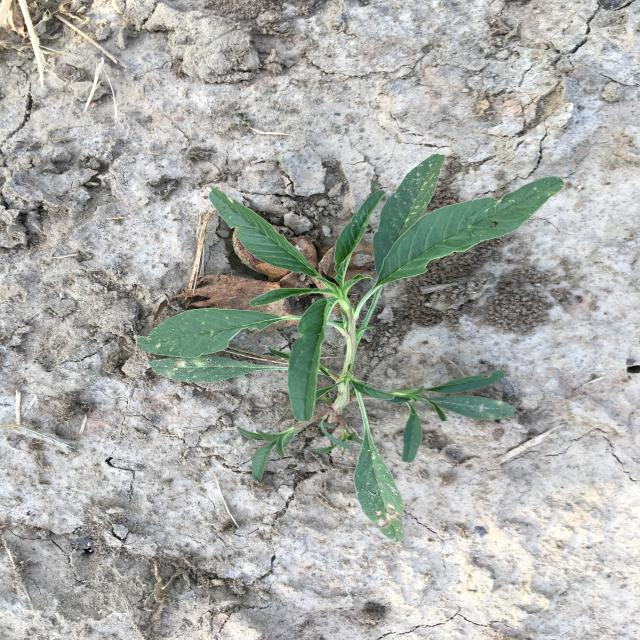Waterhemp: (135, 153, 565, 543)
